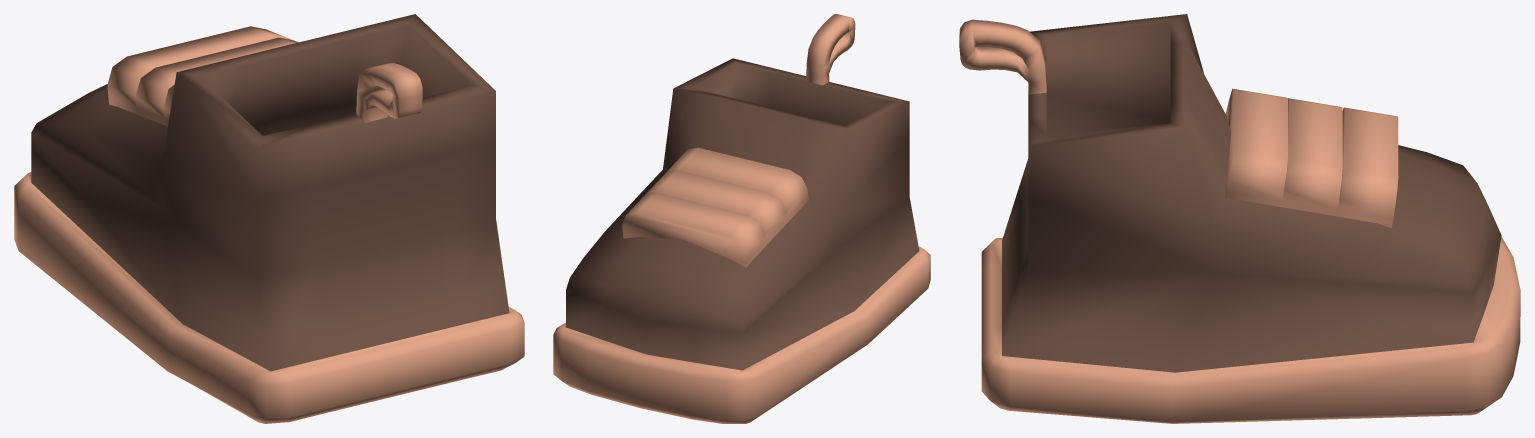
Rendered from props_shoe_1.fbx.
3 views of the same model, side by side, from view 1: azimuth 30°, elevation 25°; view 2: azimuth 150°, elevation 25°; view 3: azimuth 270°, elevation 25° (orthographic). The views are drawn at different scales.
Parts seen in each view (by area): view 1: ShoesA; view 2: ShoesA; view 3: ShoesA.
Boxes of the visible parts, x1,y1,x2,y2 form: ShoesA: (14,14,524,423); ShoesA: (553,14,930,423); ShoesA: (959,14,1520,423).
Bounding box in the file's own units: 0.2727 × 0.4934 × 0.3272.
